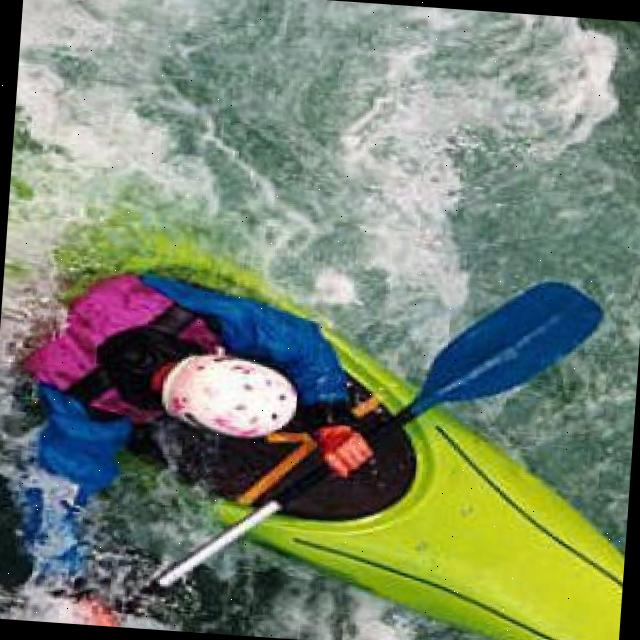kayak: (256, 348, 624, 640), (70, 207, 260, 290)
